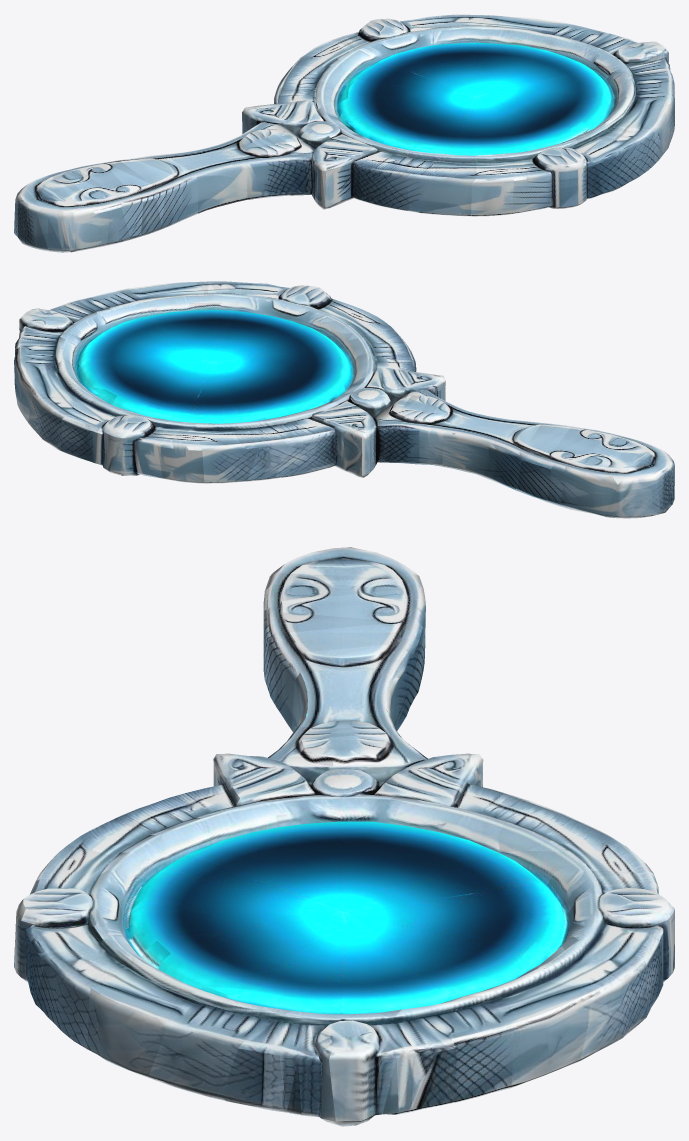
Rendered from ice_mirror.glb.
3 renders of one model, top to bottom at view 1: azimuth 30°, elevation 25°; view 2: azimuth 150°, elevation 25°; view 3: azimuth 270°, elevation 25°, orthographic. The views are drawn at different scales.
Size of the model in its own units: 1 by 0.072 by 0.5469.
Materials: 1 (1 with a texture image).
